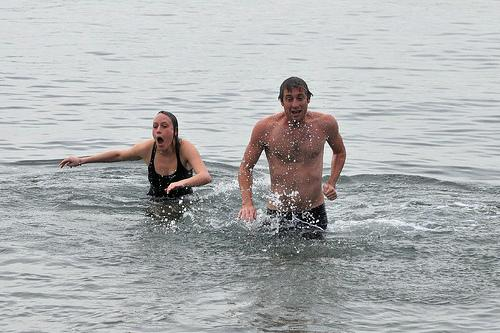swimmer: (238, 76, 346, 240), (61, 110, 213, 198)
